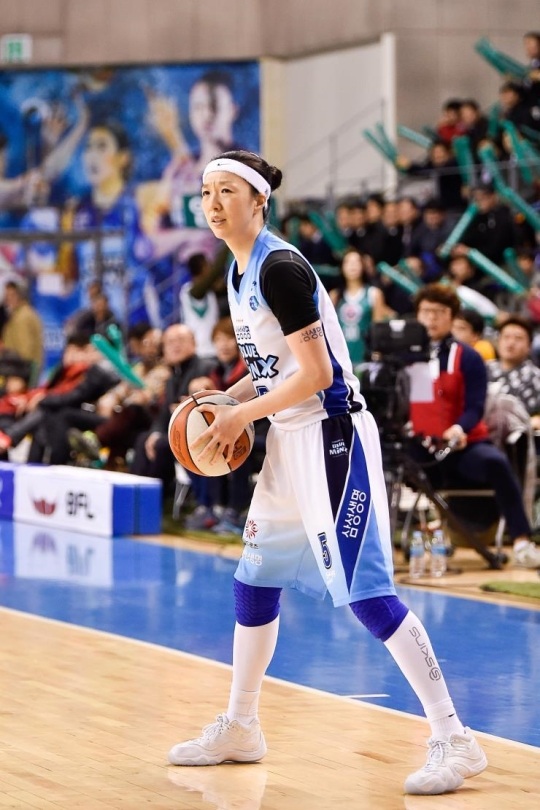ball: (163, 381, 254, 493)
stand: (145, 139, 490, 810)
